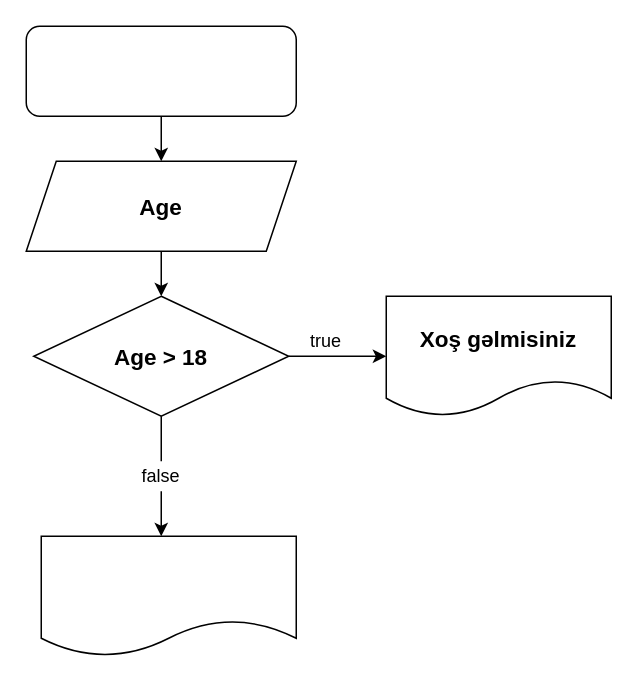
This 638x683 diagram has some shape labels left out. The centre of each missing label's shape, as x and y in pixels:
"Giriş qadağandır" belongs at pixel 168 595.
"Start" belongs at pixel 160 70.
